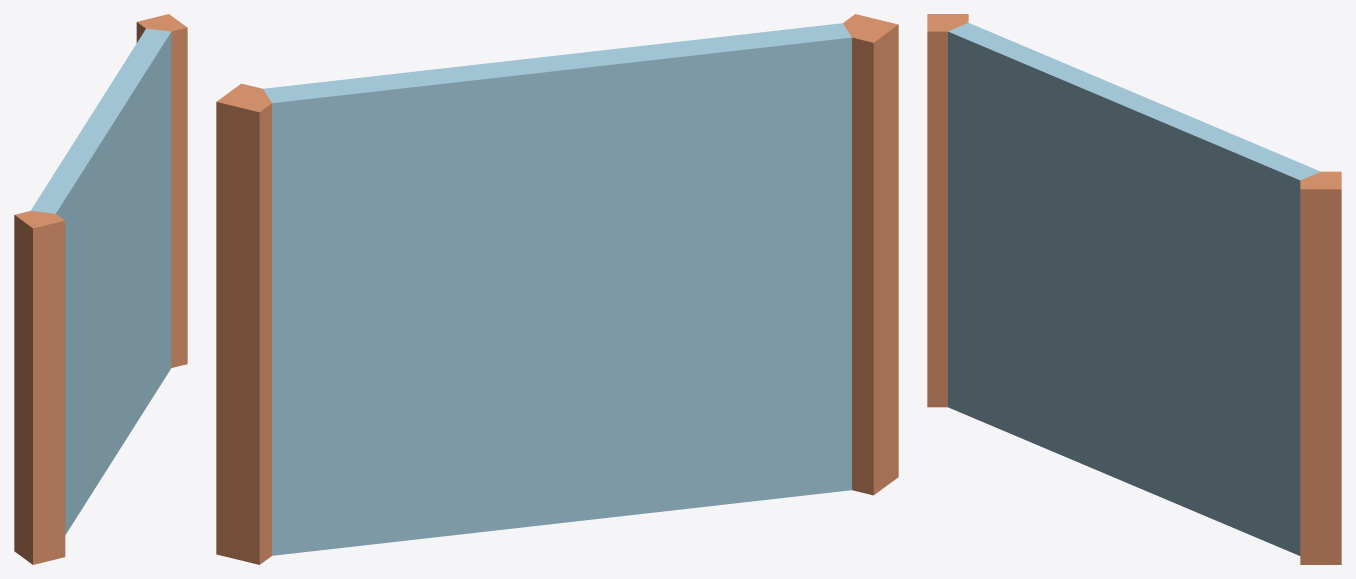
File: wallDiagonal.glb
3 views of the same model, side by side, from view 1: azimuth 30°, elevation 25°; view 2: azimuth 150°, elevation 25°; view 3: azimuth 270°, elevation 25° (orthographic). The views are drawn at different scales.
Visible parts, largest first — view 1: wallDiagonal; view 2: wallDiagonal; view 3: wallDiagonal.
Boxes of the visible parts, x1,y1,x2,y2 form: wallDiagonal: (14,14,187,564); wallDiagonal: (216,14,898,564); wallDiagonal: (927,14,1341,564).
Bounding box in the file's own units: 1 × 1 × 1.
